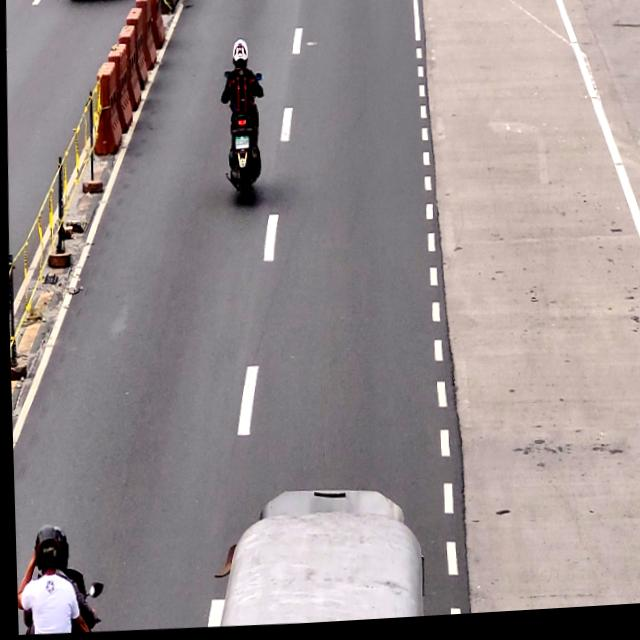Jeep: (203, 489, 422, 631)
License-Plate: (231, 135, 248, 154)
Motorcycle: (221, 36, 261, 199)
